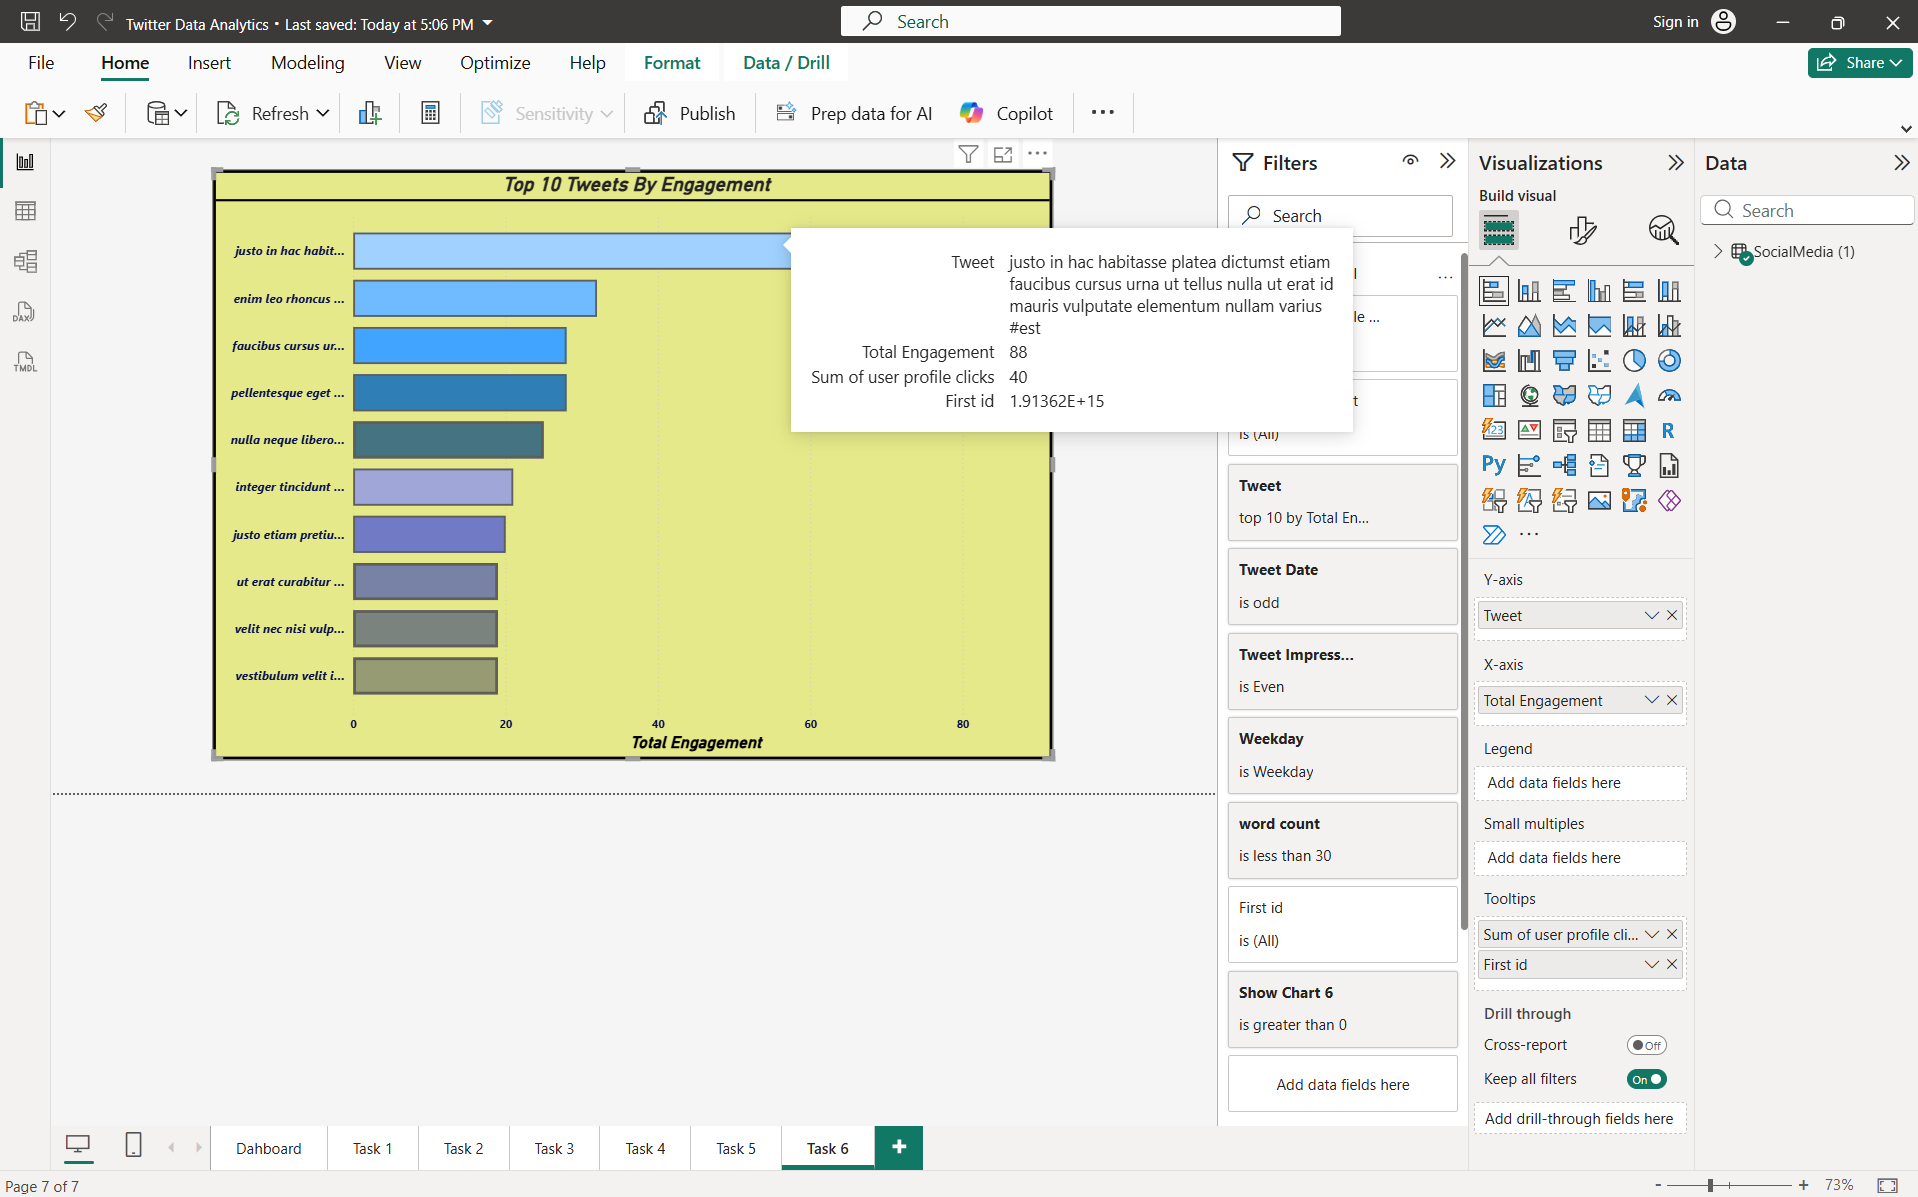

Layout of this report page (visuals, bound fields, positions):
{"tool":"powerbi","page":{"name":"Task 6","canvas":[1280,720],"ordinal":6},"visuals":[{"type":"barChart","title":"Top 10 Tweets By Engagement","fields":{"Y":["SocialMedia (1).Total Engagement"],"Category":["SocialMedia (1).Tweet"]},"box":[177,34.3,923.5,649.1],"z":0}]}

Visuals, with their boxes on the page's 1280x720 design canvas (x1, y1, x2, y2). These are canvas units, not pixel positions in the 1918x1197 screenshot, which may show the page scaled, cropped or inside an application window:
"Top 10 Tweets By Engagement" barChart: select_region(177, 34, 1100, 683)
